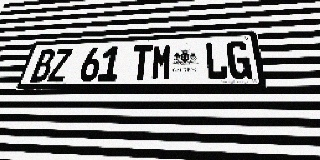1: (97, 46, 121, 81)
6: (78, 47, 103, 81)
B: (30, 49, 56, 82)
G: (226, 41, 253, 79)
L: (205, 42, 229, 80)
M: (150, 44, 172, 80)
T: (130, 45, 153, 81)
Z: (47, 48, 73, 82)
